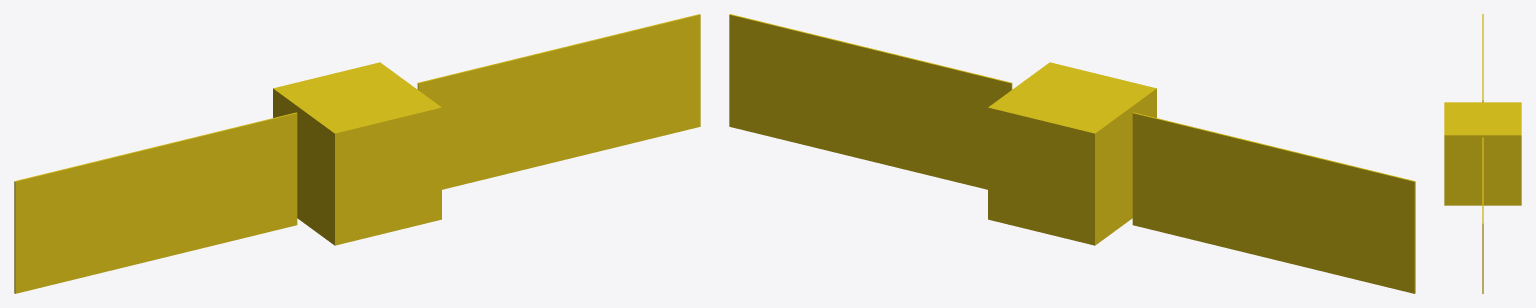
3 renders of one model, left to right at view 1: azimuth 30°, elevation 25°; view 2: azimuth 150°, elevation 25°; view 3: azimuth 270°, elevation 25°, orthographic. The views are drawn at different scales.
Parts seen in each view (by area): view 1: test; view 2: test; view 3: test.
Boxes of the visible parts, bbox=[...] form: test: bbox=[14, 14, 700, 293]; test: bbox=[729, 14, 1415, 293]; test: bbox=[1444, 14, 1521, 293].
Bounding box in the file's own units: 504 × 78.74 × 78.74.
